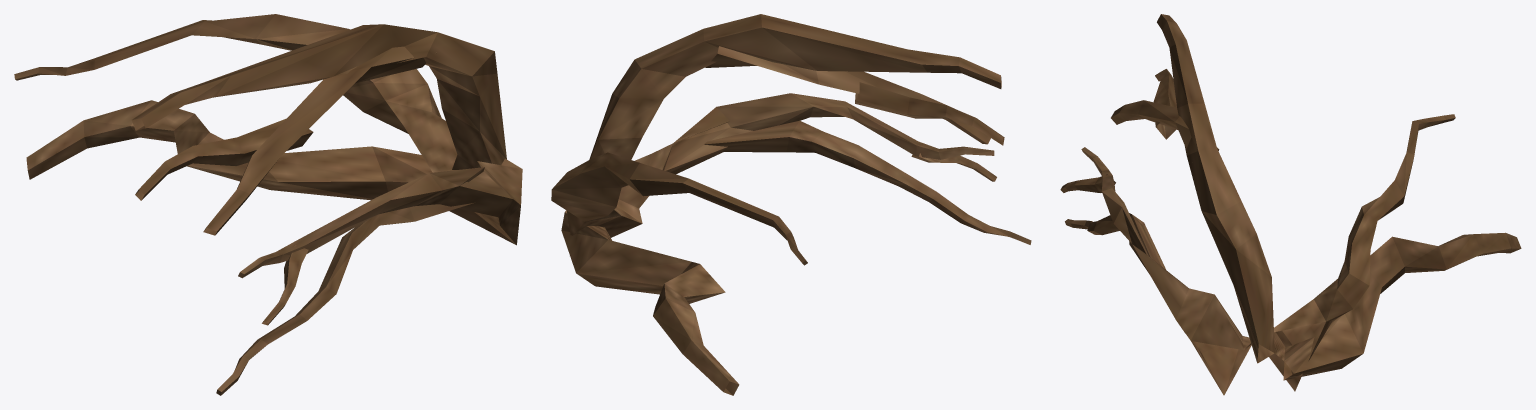
Rendered from new_tree_branch.FBX.
3 renders of one model, left to right at view 1: azimuth 30°, elevation 25°; view 2: azimuth 150°, elevation 25°; view 3: azimuth 270°, elevation 25°, orthographic. The views are drawn at different scales.
Parts seen in each view (by area): view 1: new_tree_branch; view 2: new_tree_branch; view 3: new_tree_branch.
Boxes of the visible parts, box(x1,y1,x2,y2) form: new_tree_branch: box(14, 14, 522, 395); new_tree_branch: box(551, 14, 1031, 395); new_tree_branch: box(1060, 14, 1521, 395).
Bounding box in the file's own units: 181 × 109 × 199.
1 material, 1 textured.
